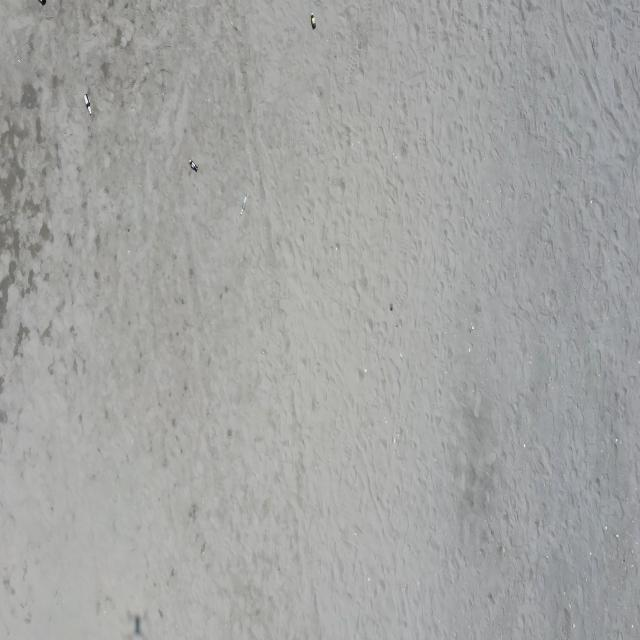glass: (84, 93, 92, 116), (240, 194, 248, 215), (189, 158, 198, 173), (311, 12, 316, 30), (38, 0, 46, 7)
